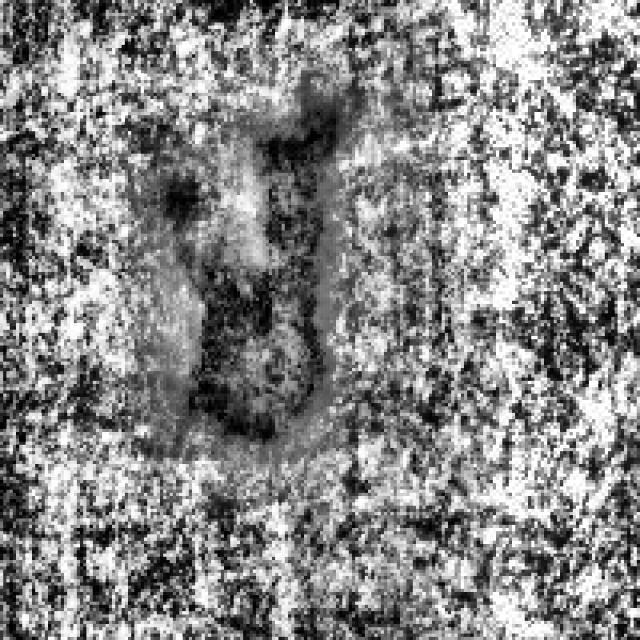Scratches: (160, 90, 346, 448)
